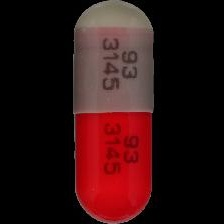55289-057: (0, 0, 224, 224)
